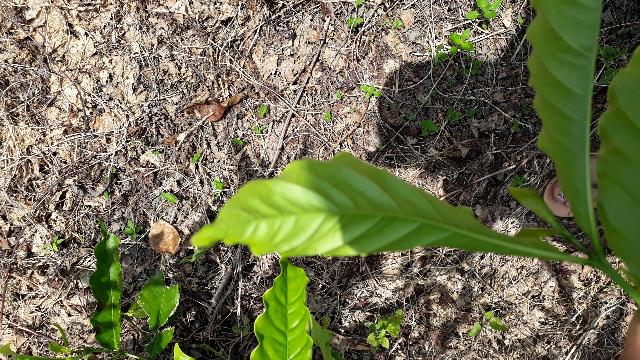healthy: (189, 151, 557, 258)
